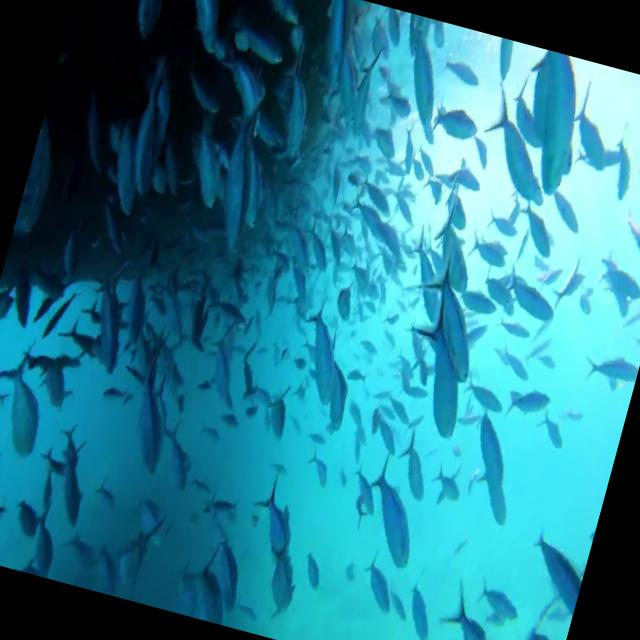fish: (472, 80, 570, 208), (398, 294, 484, 438), (108, 342, 189, 471), (358, 453, 434, 562), (287, 294, 355, 402), (0, 349, 55, 456), (498, 254, 568, 326), (247, 474, 305, 560), (183, 551, 246, 627), (432, 584, 506, 640), (386, 430, 441, 505), (354, 554, 401, 612), (426, 98, 484, 142), (498, 377, 554, 422)
